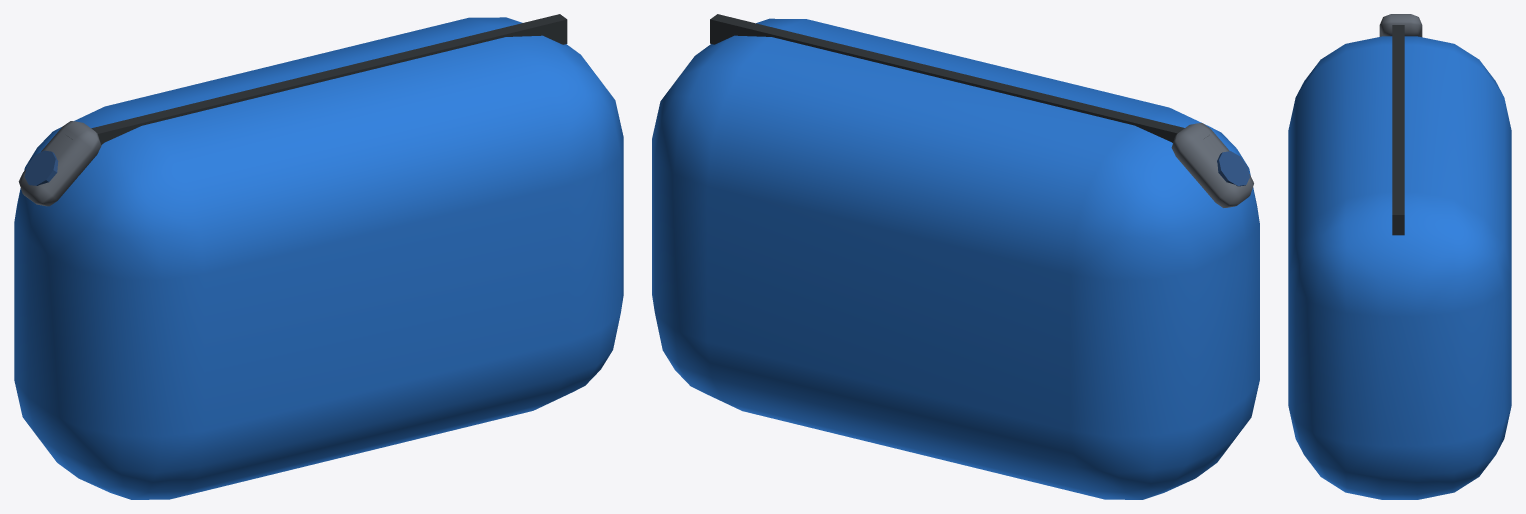
The model's file is PencilCase.fbx.
3 views of the same model, side by side, from view 1: azimuth 30°, elevation 25°; view 2: azimuth 150°, elevation 25°; view 3: azimuth 270°, elevation 25° (orthographic). The views are drawn at different scales.
Visible parts, largest first — view 1: Corpo do estojo, Puxador do ziper, Cursor do ziper; view 2: Corpo do estojo, Puxador do ziper, Cursor do ziper; view 3: Corpo do estojo, Puxador do ziper, Cursor do ziper.
Part boxes in pixels (left/top/right/bottom): Corpo do estojo: left=14, top=17, right=623, bottom=499; Puxador do ziper: left=24, top=14, right=567, bottom=185; Cursor do ziper: left=18, top=121, right=101, bottom=206; Corpo do estojo: left=652, top=18, right=1259, bottom=499; Puxador do ziper: left=710, top=14, right=1249, bottom=186; Cursor do ziper: left=1171, top=123, right=1253, bottom=207; Corpo do estojo: left=1288, top=36, right=1511, bottom=499; Puxador do ziper: left=1392, top=25, right=1404, bottom=235; Cursor do ziper: left=1379, top=14, right=1422, bottom=37.
Size of the model in its own units: 245 by 152 by 100.
